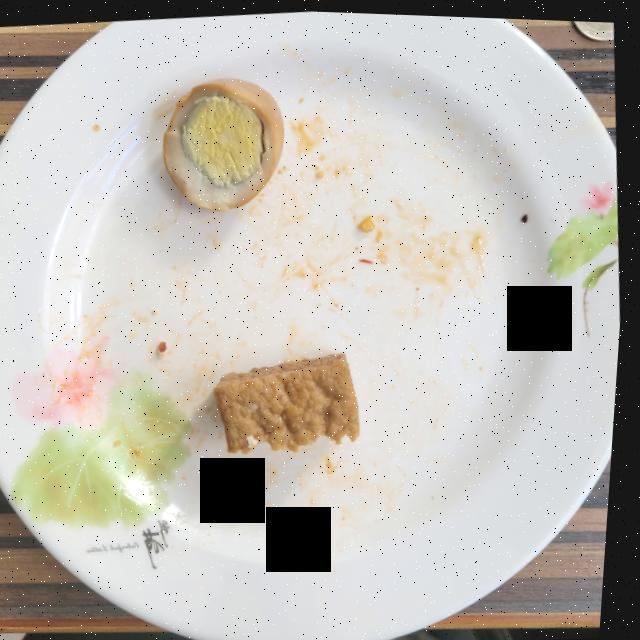coin: (574, 17, 614, 36)
egg tofu: (219, 350, 365, 451)
soy egg: (165, 76, 286, 209)
